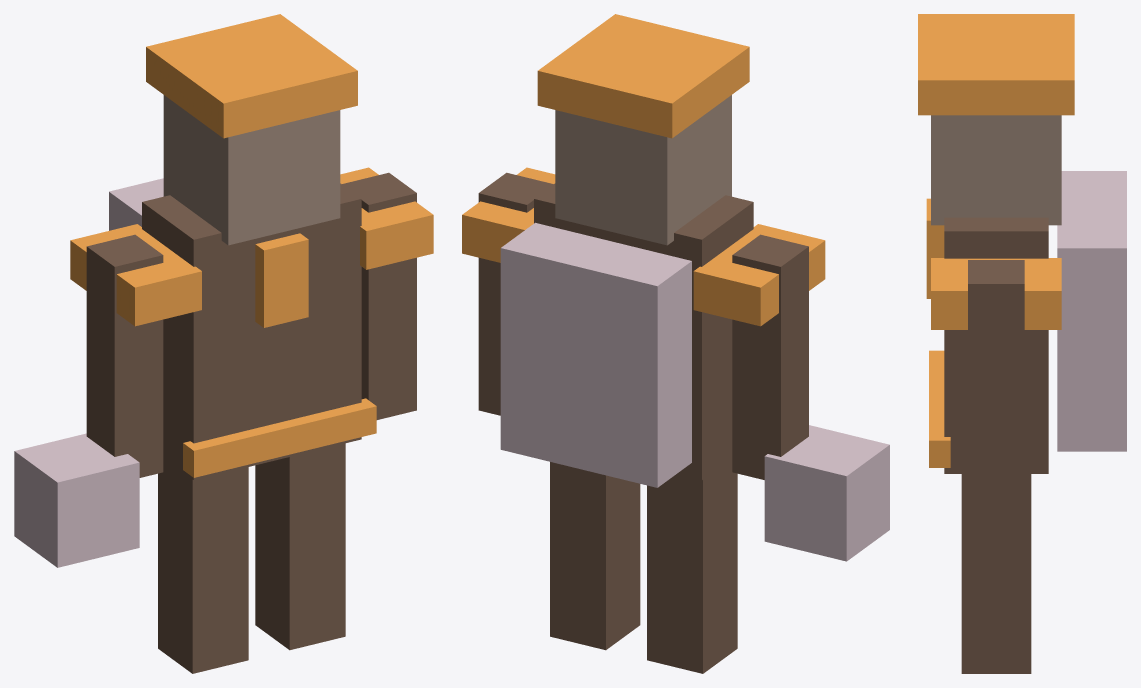
The model's file is 16_rook_ironwake_diver_of_ravine.glb.
3 views of the same model, side by side, from view 1: azimuth 30°, elevation 25°; view 2: azimuth 150°, elevation 25°; view 3: azimuth 270°, elevation 25° (orthographic).
Visible parts, largest first — view 1: Rook Ironwake, Diver of Ravine; view 2: Rook Ironwake, Diver of Ravine; view 3: Rook Ironwake, Diver of Ravine.
Boxes of the visible parts, x1,y1,x2,y2 form: Rook Ironwake, Diver of Ravine: (14, 14, 433, 673); Rook Ironwake, Diver of Ravine: (462, 14, 889, 673); Rook Ironwake, Diver of Ravine: (918, 14, 1126, 673).
Bounding box in the file's own units: 0.9527 × 1.43 × 0.4596.
